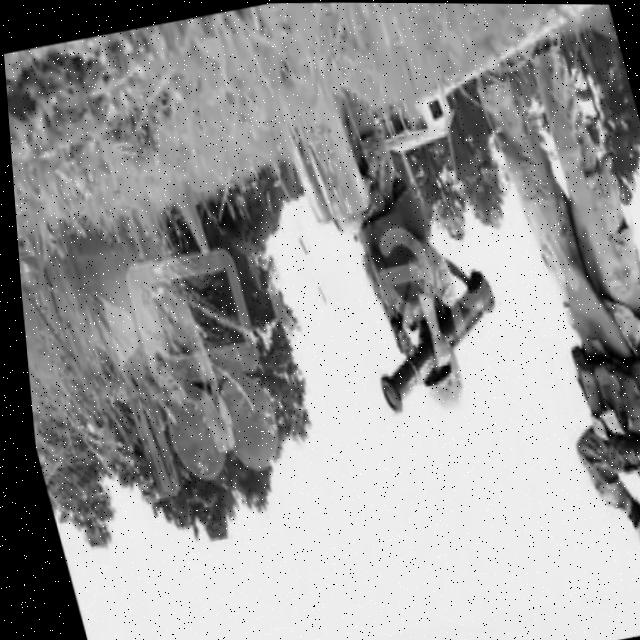rocket: (346, 260, 516, 416)
